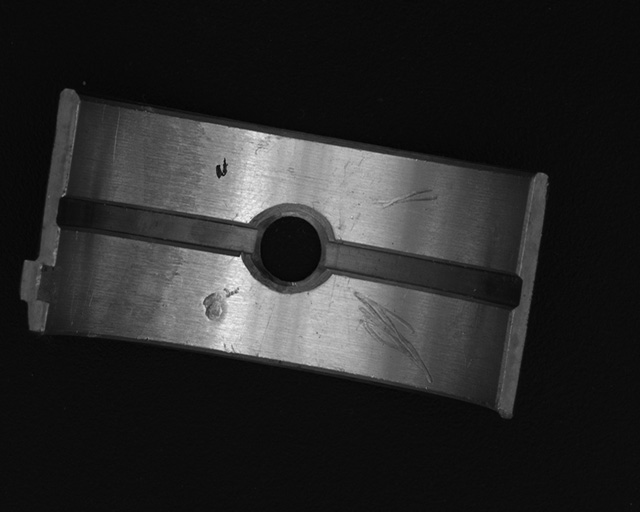blot: (215, 157, 228, 180)
bruise: (202, 287, 239, 323)
gap: (324, 241, 520, 307), (56, 196, 256, 252)
hole: (251, 206, 328, 289)
nick: (352, 290, 435, 382), (374, 188, 438, 208)
